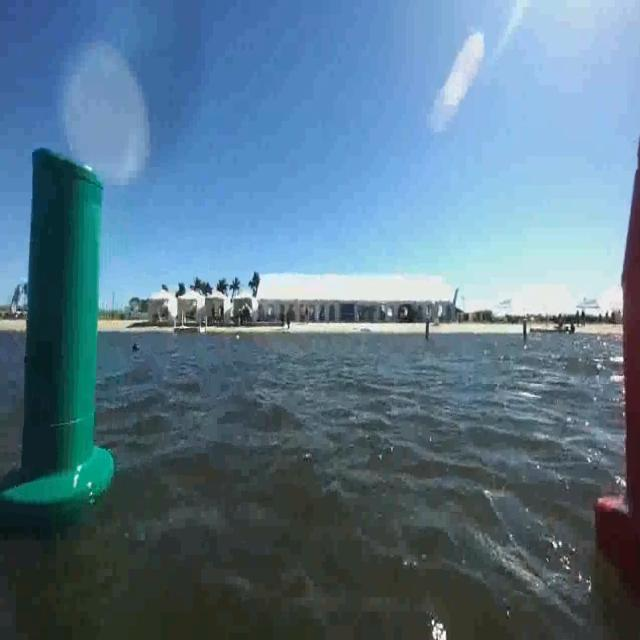green-column-buoy: (0, 137, 122, 536)
